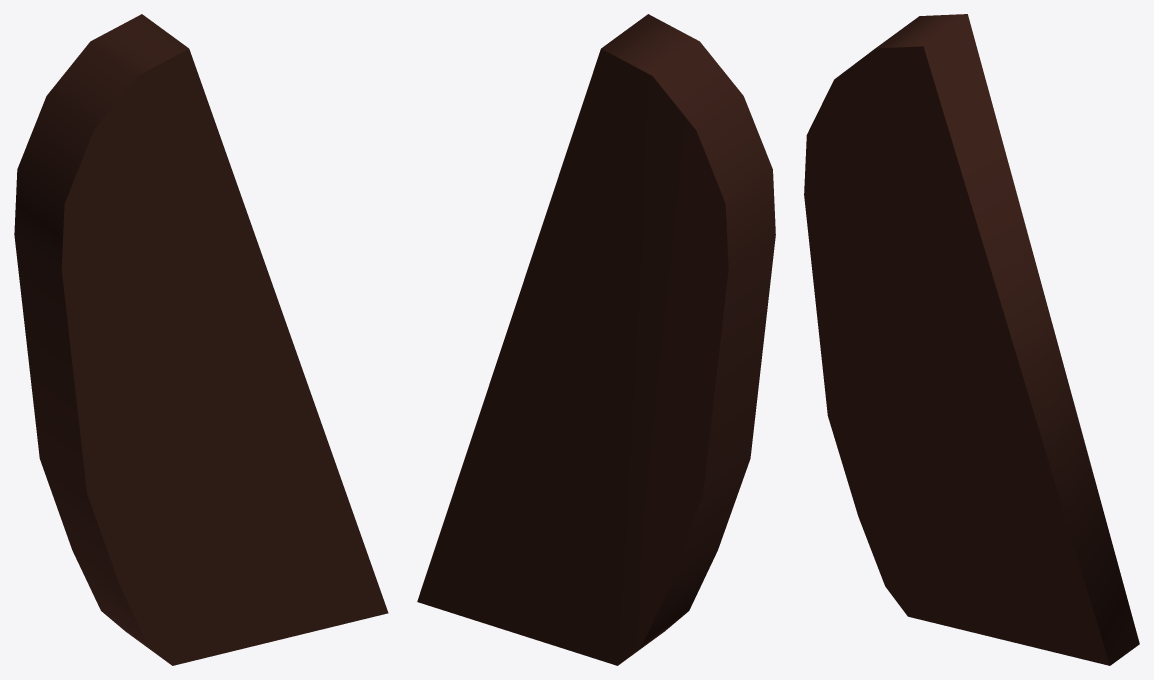
The model's file is 5 - Serpent Stone.FBX.
3 views of the same model, side by side, from view 1: azimuth 30°, elevation 25°; view 2: azimuth 150°, elevation 25°; view 3: azimuth 330°, elevation 25° (orthographic). The views are drawn at different scales.
Visible parts, largest first — view 1: Box010; view 2: Box010; view 3: Box010.
Part boxes in pixels (<box>): Box010: <box>14,14,388,665</box>; Box010: <box>417,14,775,665</box>; Box010: <box>804,14,1139,665</box>.
Size of the model in its own units: 80.79 by 145 by 20.23.
